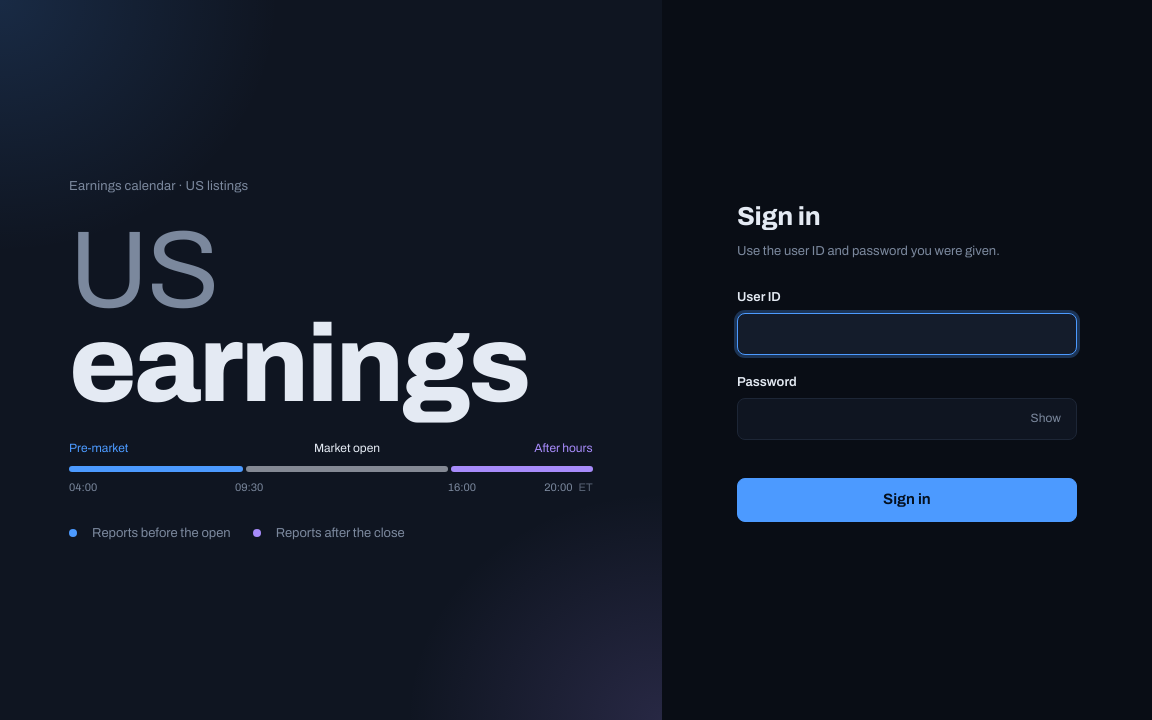
Test: Enter submits; shows a pending state; signs in on success
Type "1a" into the field labelled "User ID" at (907, 334), box [737,313,1077,355]
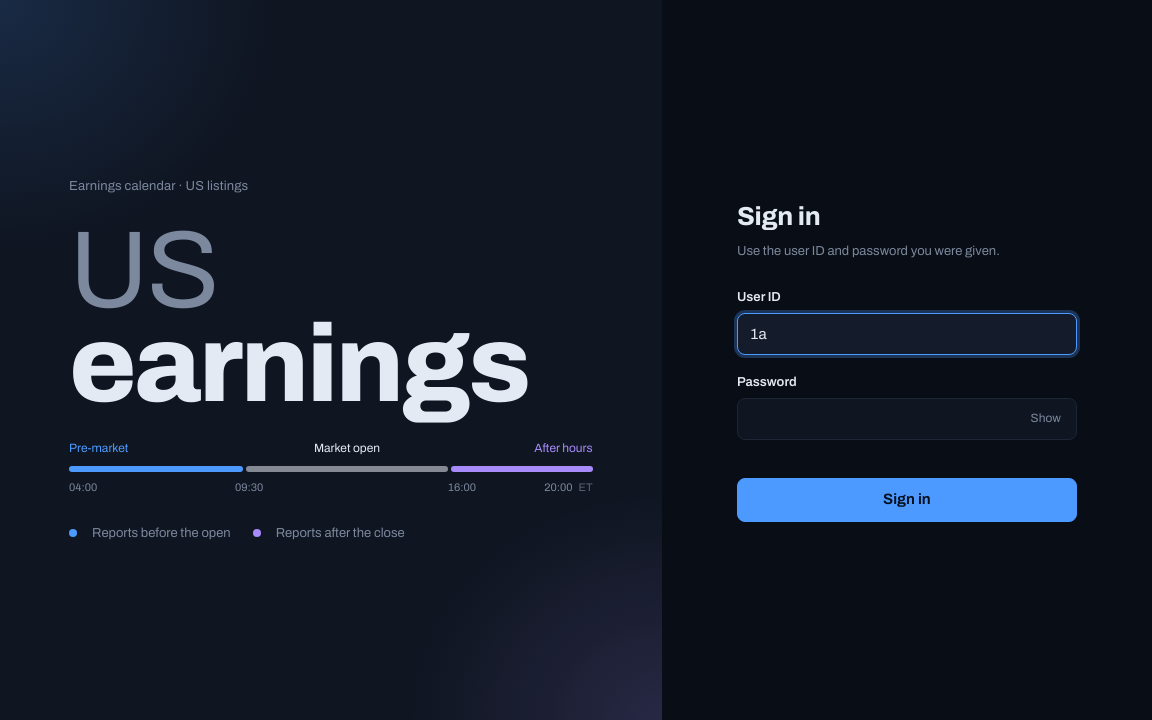
Type "00000000" into the password field labelled "Password" at (907, 419), box [737,398,1077,440]
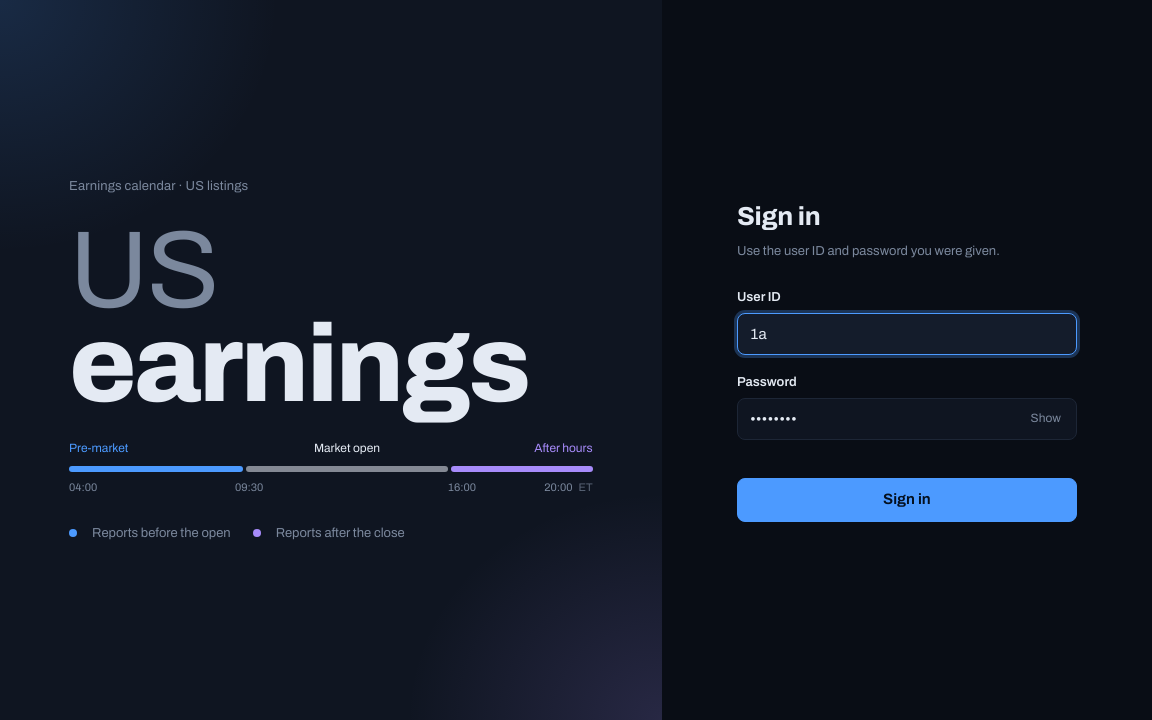
Submit the form labelled "password", box [737,198,1077,522]
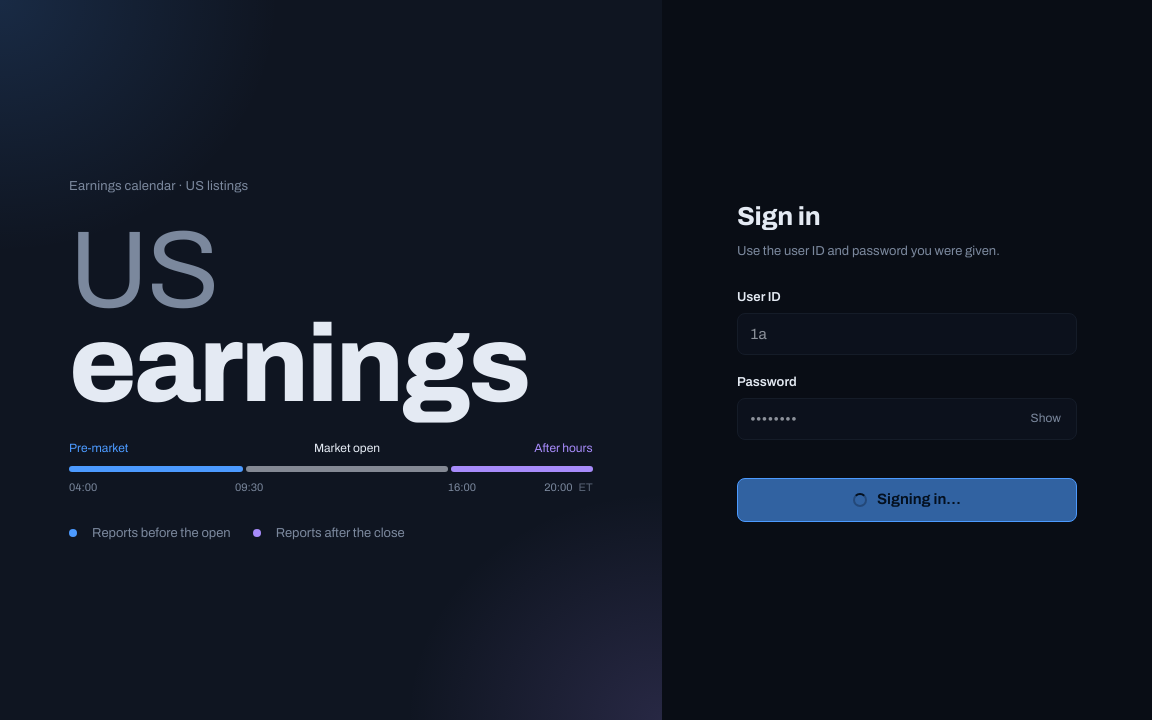
Expected: the button "Signing in…" is disabled, [737,478,1077,522]
